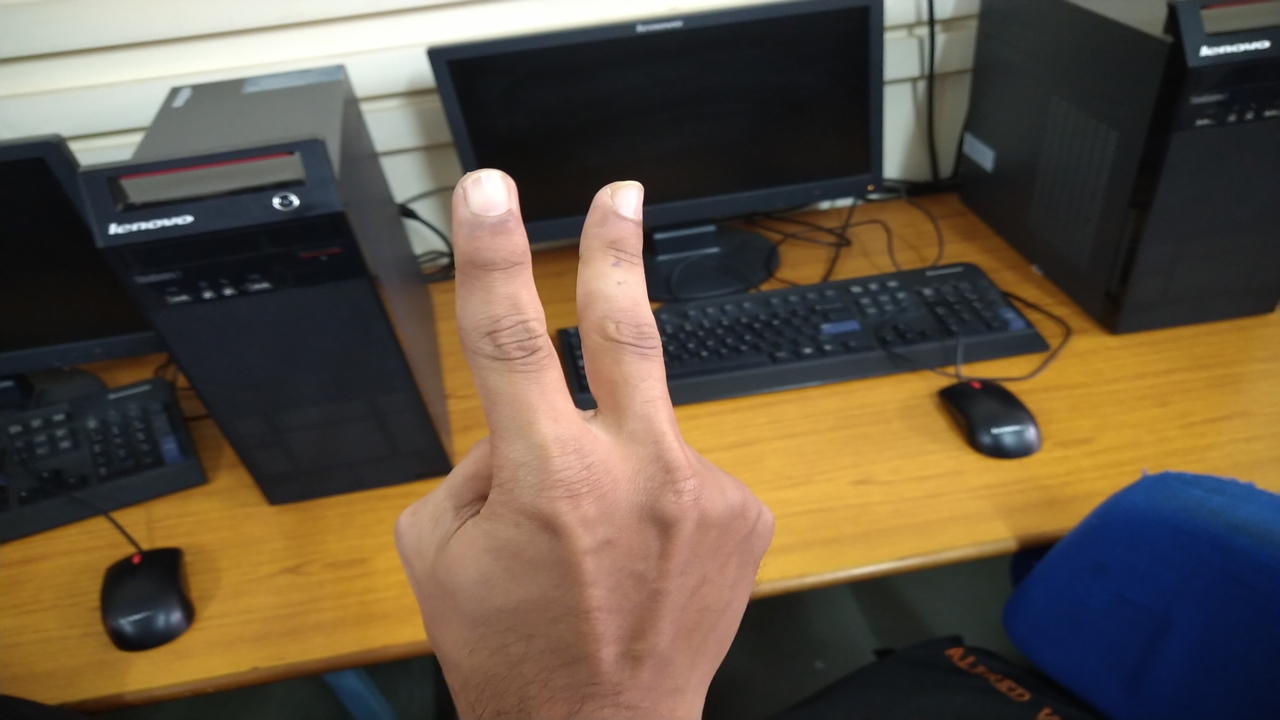fingertip: (448, 162, 522, 232), (578, 172, 654, 230)
